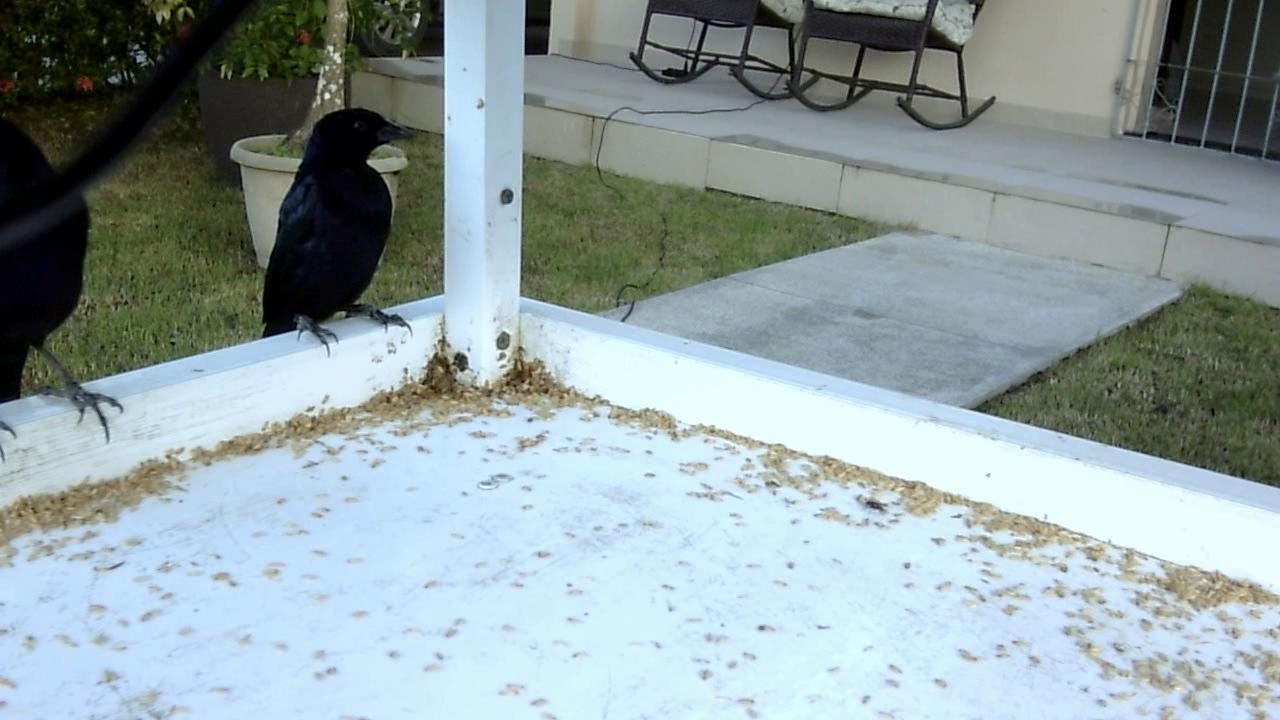chupim: (1, 92, 141, 478), (252, 96, 422, 365)
